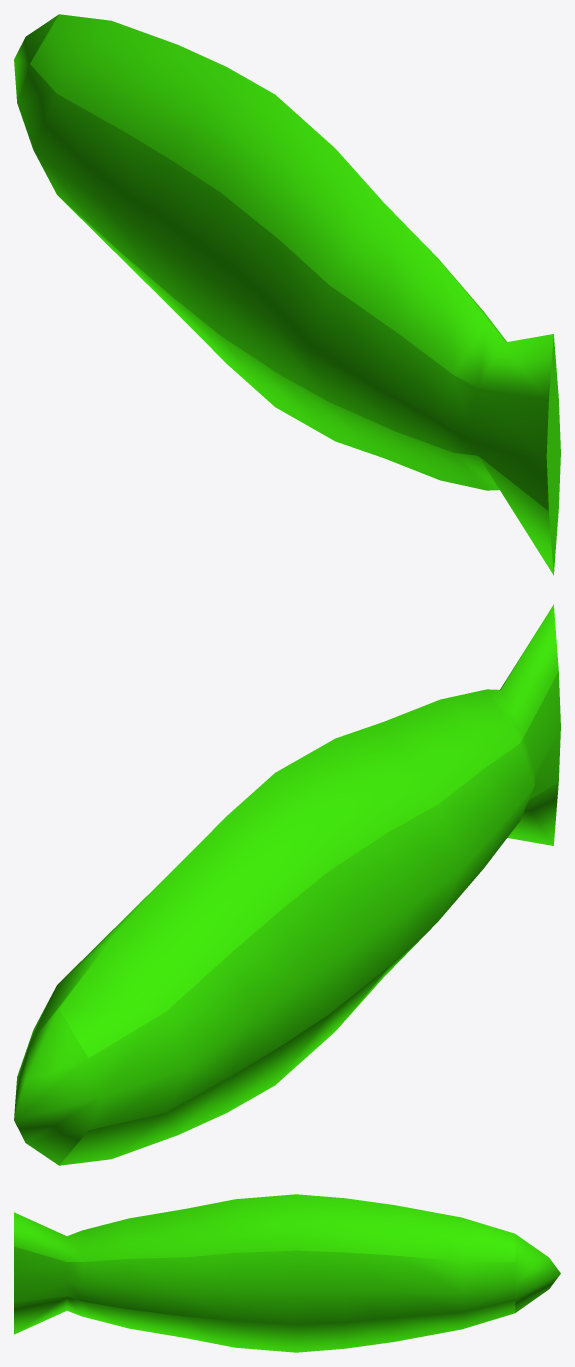
Rendered from Kozakana(Green).fbx.
3 renders of one model, top to bottom at view 1: azimuth 30°, elevation 25°; view 2: azimuth 150°, elevation 25°; view 3: azimuth 270°, elevation 25°, orthographic. The views are drawn at different scales.
Parts seen in each view (by area): view 1: pCube1; view 2: pCube1; view 3: pCube1.
Part boxes in pixels (x1=…): pCube1: x1=14, y1=14, x2=560, y2=575; pCube1: x1=14, y1=604, x2=560, y2=1165; pCube1: x1=14, y1=1194, x2=560, y2=1352.
Size of the model in its own units: 7.48 by 14.28 by 44.69.
